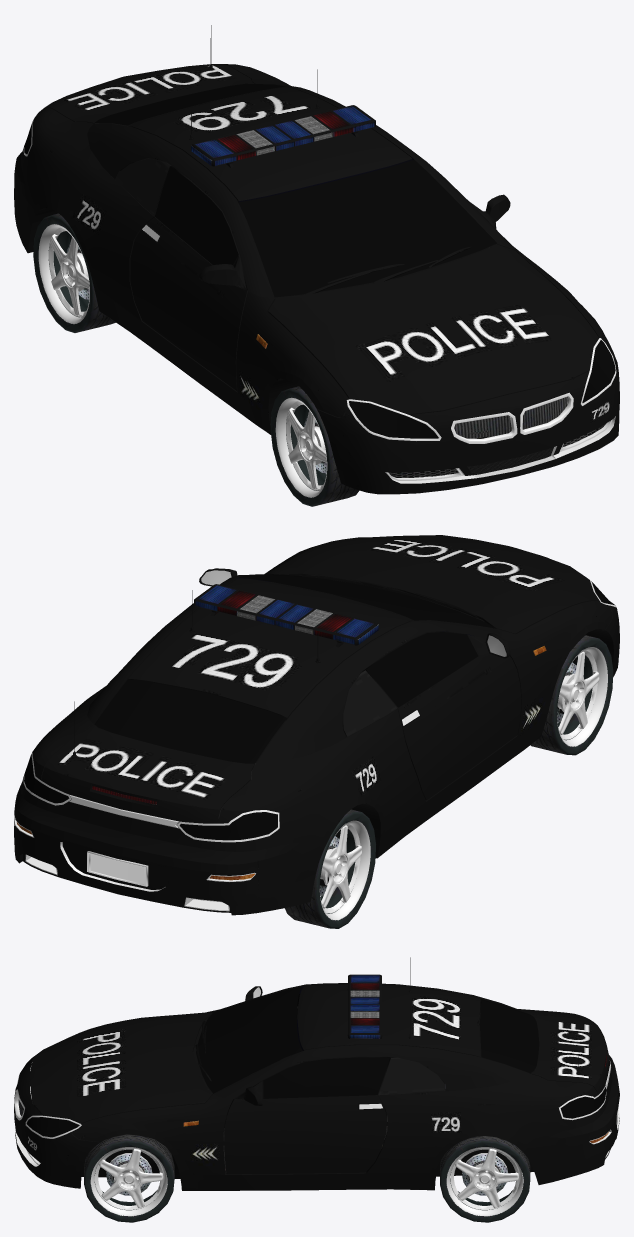
3 views of the same model, one above another, from view 1: azimuth 30°, elevation 25°; view 2: azimuth 150°, elevation 25°; view 3: azimuth 270°, elevation 25° (orthographic). The views are drawn at different scales.
Parts seen in each view (by area): view 1: Body, Glasses, FrontRight, BackRight; view 2: Body, Glasses, FrontRight, BackRight; view 3: Body, Glasses, FrontLeft, BackLeft.
Boxes of the visible parts, x1,y1,x2,y2 form: Body: (14,25,619,494); Glasses: (24,83,615,438); FrontRight: (270,386,359,506); BackRight: (33,213,115,332); Body: (14,535,619,915); Glasses: (24,574,614,840); FrontRight: (530,635,613,755); BackRight: (285,809,376,928); Body: (14,957,619,1190); Glasses: (26,986,605,1137); FrontLeft: (84,1134,174,1222); BackLeft: (440,1136,530,1222).
Bounding box in the file's own units: 2.07 × 1.62 × 4.69.
Materials: 7 (3 with a texture image).
